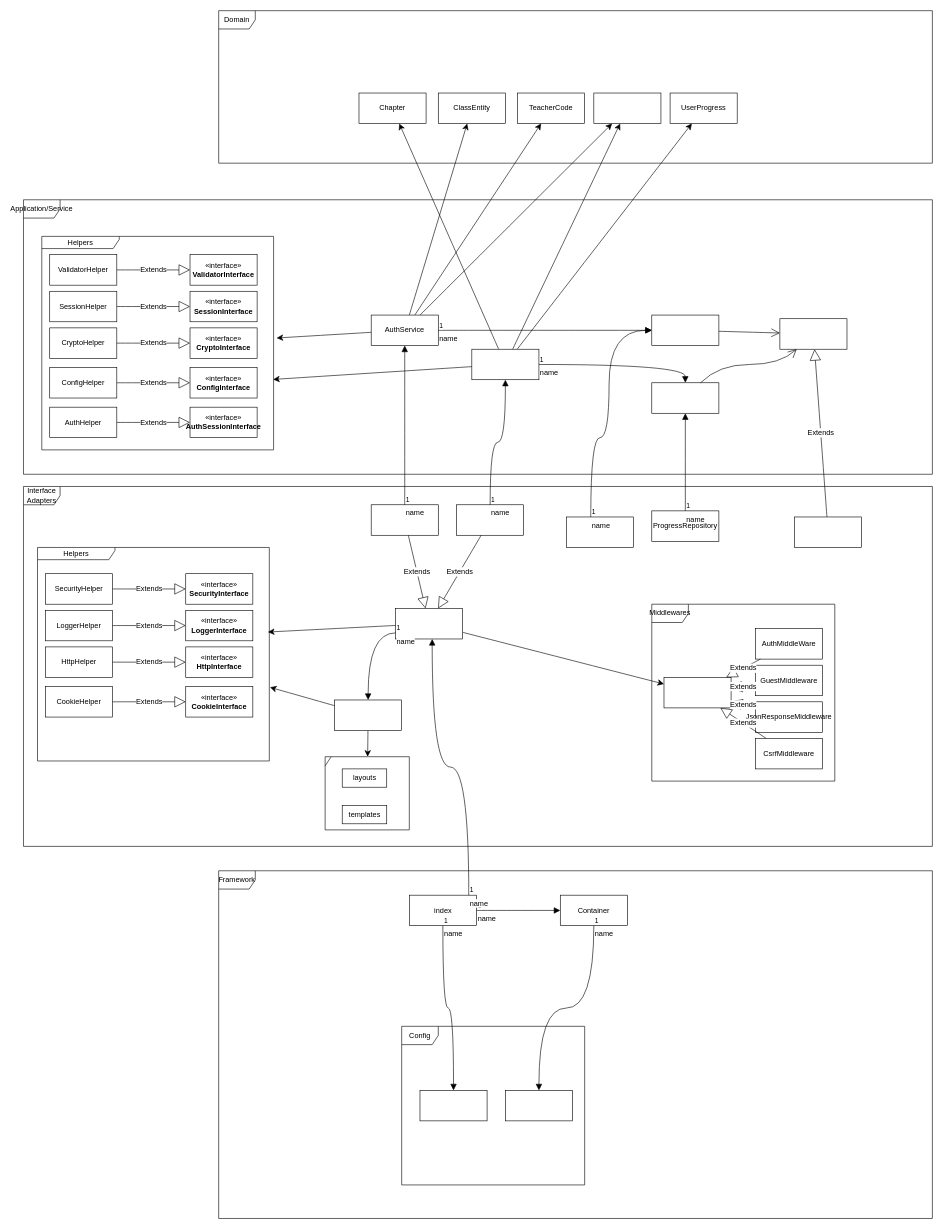
The diagram is 943 pixels wide and 1229 high, and some of its shapes have lost their labels. The centre of each missing label's shape, as x and y in pixels:
"<<Abstract>> Controller" goes at (429,623).
"<<Abstract>> Middleware" goes at (697,692).
"<<Abstract>> View" goes at (368,714).
"<<interface>> ProgressRepository Interface" goes at (685,397).
"<<interface>> Queryable" goes at (813,333).
"<<interface>> UserRepositoryInterface" goes at (685,330).
"AuthController" goes at (404,519).
"dependencies" goes at (538,1105).
"HomeController" goes at (490,519).
"PDOAdapter" goes at (828,531).
"ProgressService" goes at (505,364).
"routes" goes at (453,1105).
"User" goes at (627,108).
"UserRepository" goes at (599,531).
